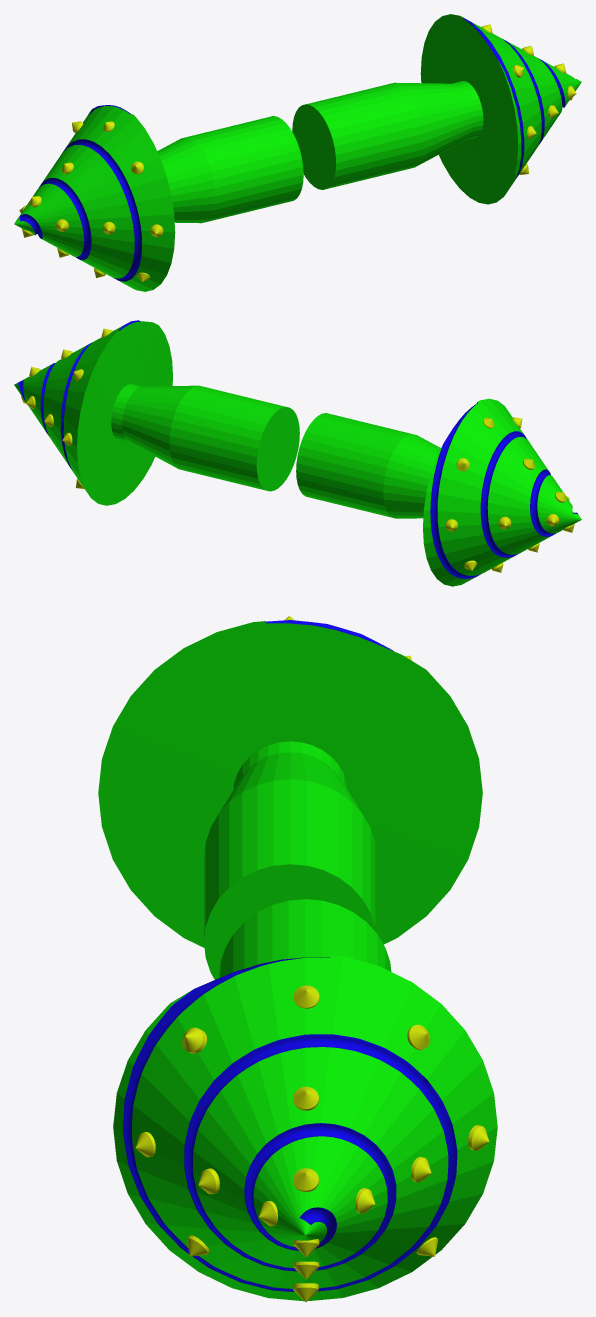
The model's file is side arm lvl 2.fbx.
3 views of the same model, one above another, from view 1: azimuth 30°, elevation 25°; view 2: azimuth 150°, elevation 25°; view 3: azimuth 270°, elevation 25° (orthographic). The views are drawn at different scales.
Visible parts, largest first — view 1: side arm lvl 2.001, side arm lvl 2; view 2: side arm lvl 2, side arm lvl 2.001; view 3: side arm lvl 2, side arm lvl 2.001.
Part boxes in pixels (x1,y1,x2,y2): side arm lvl 2.001: (14, 105, 303, 291); side arm lvl 2: (292, 14, 581, 204); side arm lvl 2: (14, 320, 299, 505); side arm lvl 2.001: (296, 398, 581, 586); side arm lvl 2: (113, 899, 497, 1301); side arm lvl 2.001: (98, 615, 482, 979).
Size of the model in its own units: 457 by 134 by 140.
